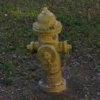Hydrant: (20, 2, 80, 93)
